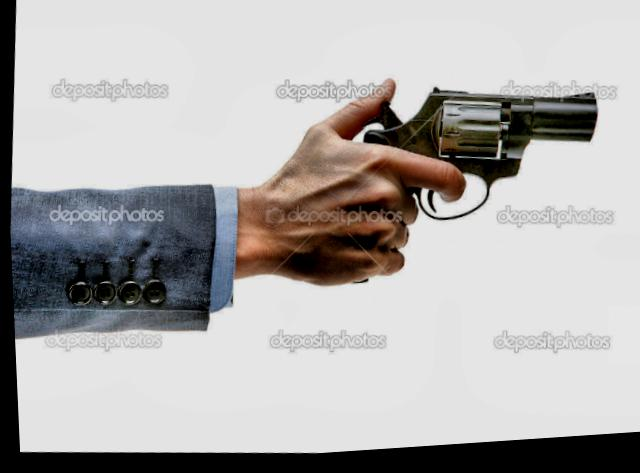pistol: (329, 53, 611, 301)
